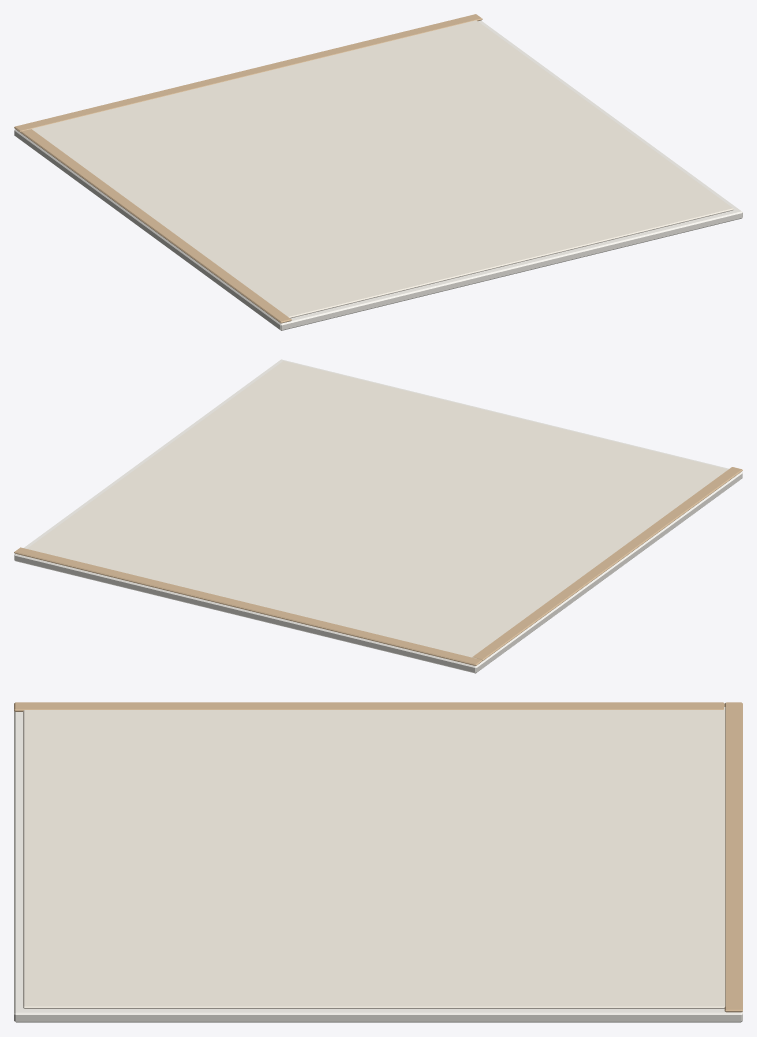
Rendered from care-home-and-day-room-corridor-floor-tile-447c4408__35767.glb.
3 views of the same model, one above another, from view 1: azimuth 30°, elevation 25°; view 2: azimuth 150°, elevation 25°; view 3: azimuth 270°, elevation 25° (orthographic). The views are drawn at different scales.
Parts seen in each view (by area): view 1: corridor-floor-tile; view 2: corridor-floor-tile; view 3: corridor-floor-tile.
Part boxes in pixels (box(x1,y1,x2,y2)): corridor-floor-tile: box(14, 14, 742, 330); corridor-floor-tile: box(14, 359, 742, 673); corridor-floor-tile: box(14, 702, 742, 1022).
Bounding box in the file's own units: 1.2 × 0.024 × 1.2.
